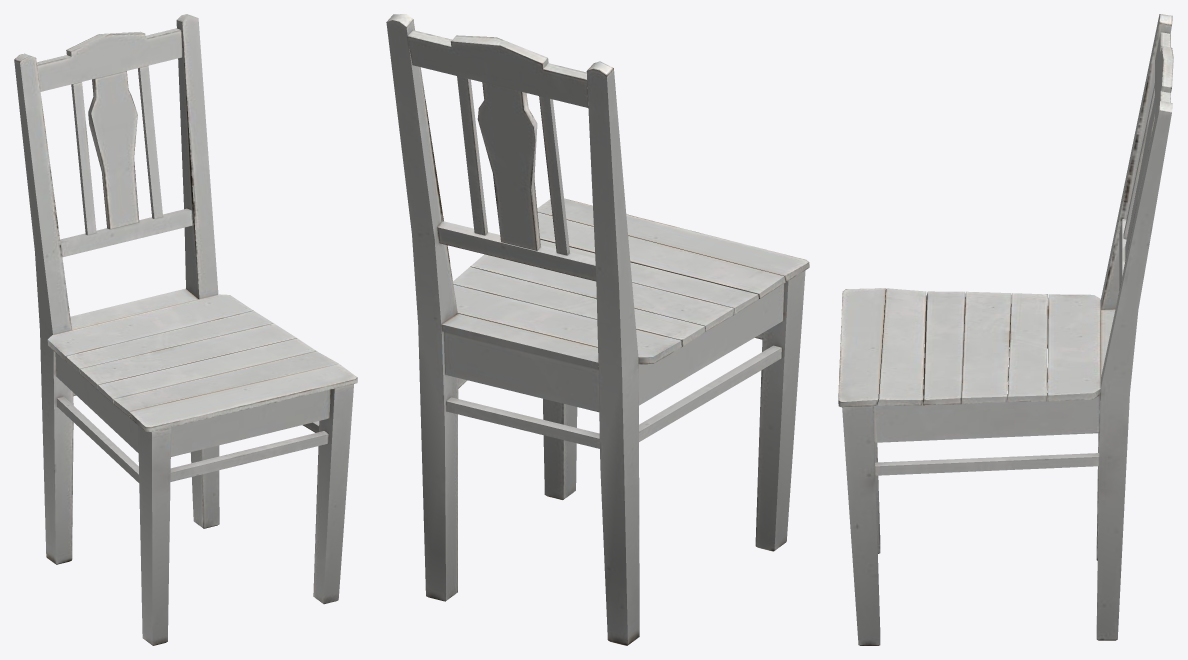
The model's file is painted_wooden_chair_01.glb.
3 renders of one model, left to right at view 1: azimuth 30°, elevation 25°; view 2: azimuth 150°, elevation 25°; view 3: azimuth 270°, elevation 25°, orthographic. The views are drawn at different scales.
Visible parts, largest first — view 1: painted_wooden_chair_01; view 2: painted_wooden_chair_01; view 3: painted_wooden_chair_01.
Boxes of the visible parts, x1,y1,x2,y2 form: painted_wooden_chair_01: (14, 14, 357, 645); painted_wooden_chair_01: (386, 14, 809, 645); painted_wooden_chair_01: (838, 14, 1173, 645).
Bounding box in the file's own units: 0.4298 × 0.9558 × 0.5391.
1 material, 1 textured.
